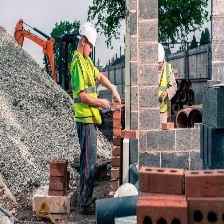helmet: (76, 20, 99, 50)
person: (72, 21, 103, 215)
vest: (73, 54, 96, 130)
